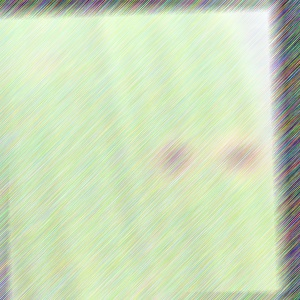Bacterial_Leaf_Blight: (212, 126, 268, 187), (144, 130, 200, 186), (28, 46, 63, 72), (24, 26, 41, 39)
